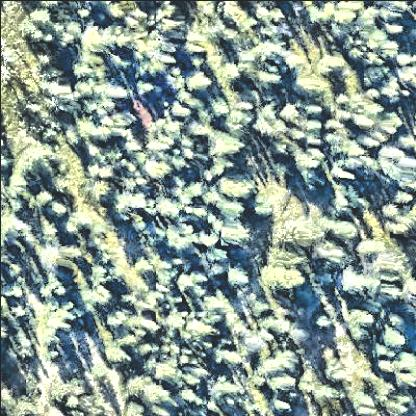tree-top: (340, 282, 380, 341), (357, 315, 407, 351), (275, 214, 319, 252), (262, 262, 304, 300), (340, 268, 379, 304), (221, 1, 260, 36), (214, 175, 256, 206), (385, 350, 416, 392), (344, 308, 380, 344), (207, 133, 247, 165), (311, 239, 349, 272), (219, 221, 253, 254), (34, 243, 68, 276), (76, 24, 109, 58), (294, 145, 329, 176), (316, 53, 350, 84), (153, 1, 183, 36), (185, 68, 216, 99), (267, 373, 299, 402), (84, 176, 117, 204), (103, 345, 135, 373), (172, 270, 204, 298), (360, 63, 392, 91), (161, 99, 194, 126), (140, 156, 174, 182), (379, 324, 409, 352), (137, 380, 167, 408), (212, 347, 244, 373), (376, 200, 407, 226), (253, 67, 283, 93), (43, 197, 73, 223), (224, 264, 251, 292), (382, 192, 410, 219), (4, 395, 39, 416), (82, 285, 110, 311), (332, 218, 360, 244), (261, 315, 288, 341), (106, 79, 131, 107), (30, 6, 55, 34), (72, 214, 98, 240), (132, 250, 155, 277), (115, 332, 143, 353), (157, 198, 182, 220), (353, 132, 375, 156), (384, 21, 406, 43), (313, 314, 336, 334), (390, 191, 414, 209), (271, 400, 295, 416), (252, 197, 267, 220)
